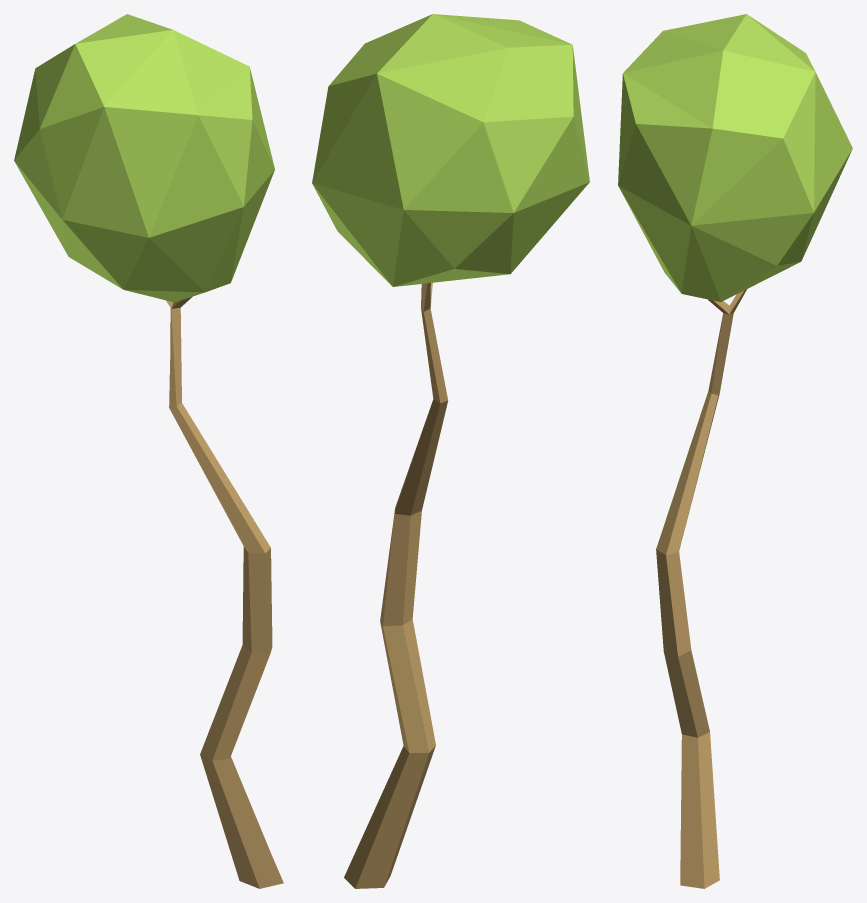
The model's file is Simple_Tree_s_01.fbx.
3 views of the same model, side by side, from view 1: azimuth 30°, elevation 25°; view 2: azimuth 150°, elevation 25°; view 3: azimuth 270°, elevation 25° (orthographic). The views are drawn at different scales.
Visible parts, largest first — view 1: Simple_Tree_s_01; view 2: Simple_Tree_s_01; view 3: Simple_Tree_s_01.
Boxes of the visible parts, <box> form: Simple_Tree_s_01: <box>14,14,283,888</box>; Simple_Tree_s_01: <box>312,14,589,888</box>; Simple_Tree_s_01: <box>618,14,852,888</box>.
Bounding box in the file's own units: 112 × 401 × 107.
